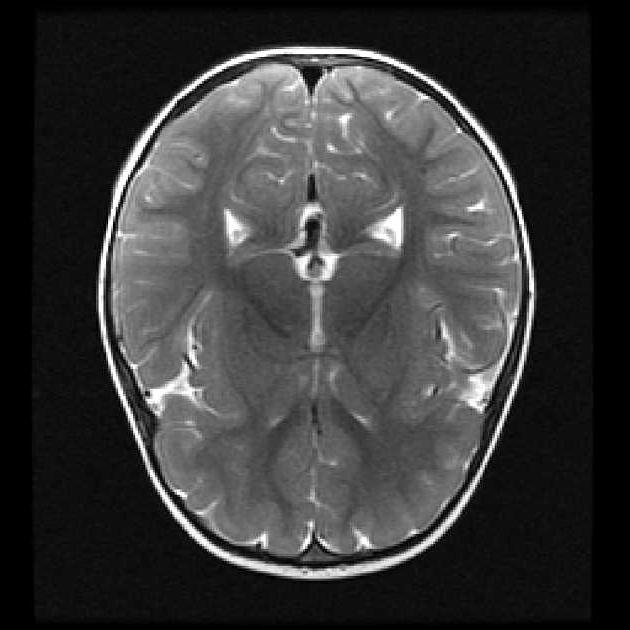Normal_Brain: (55, 1, 630, 630)
